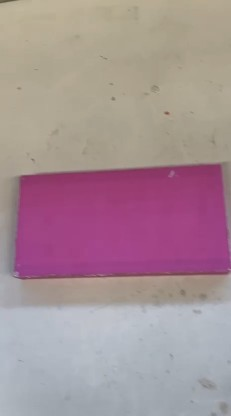pink: (2, 164, 221, 284)
